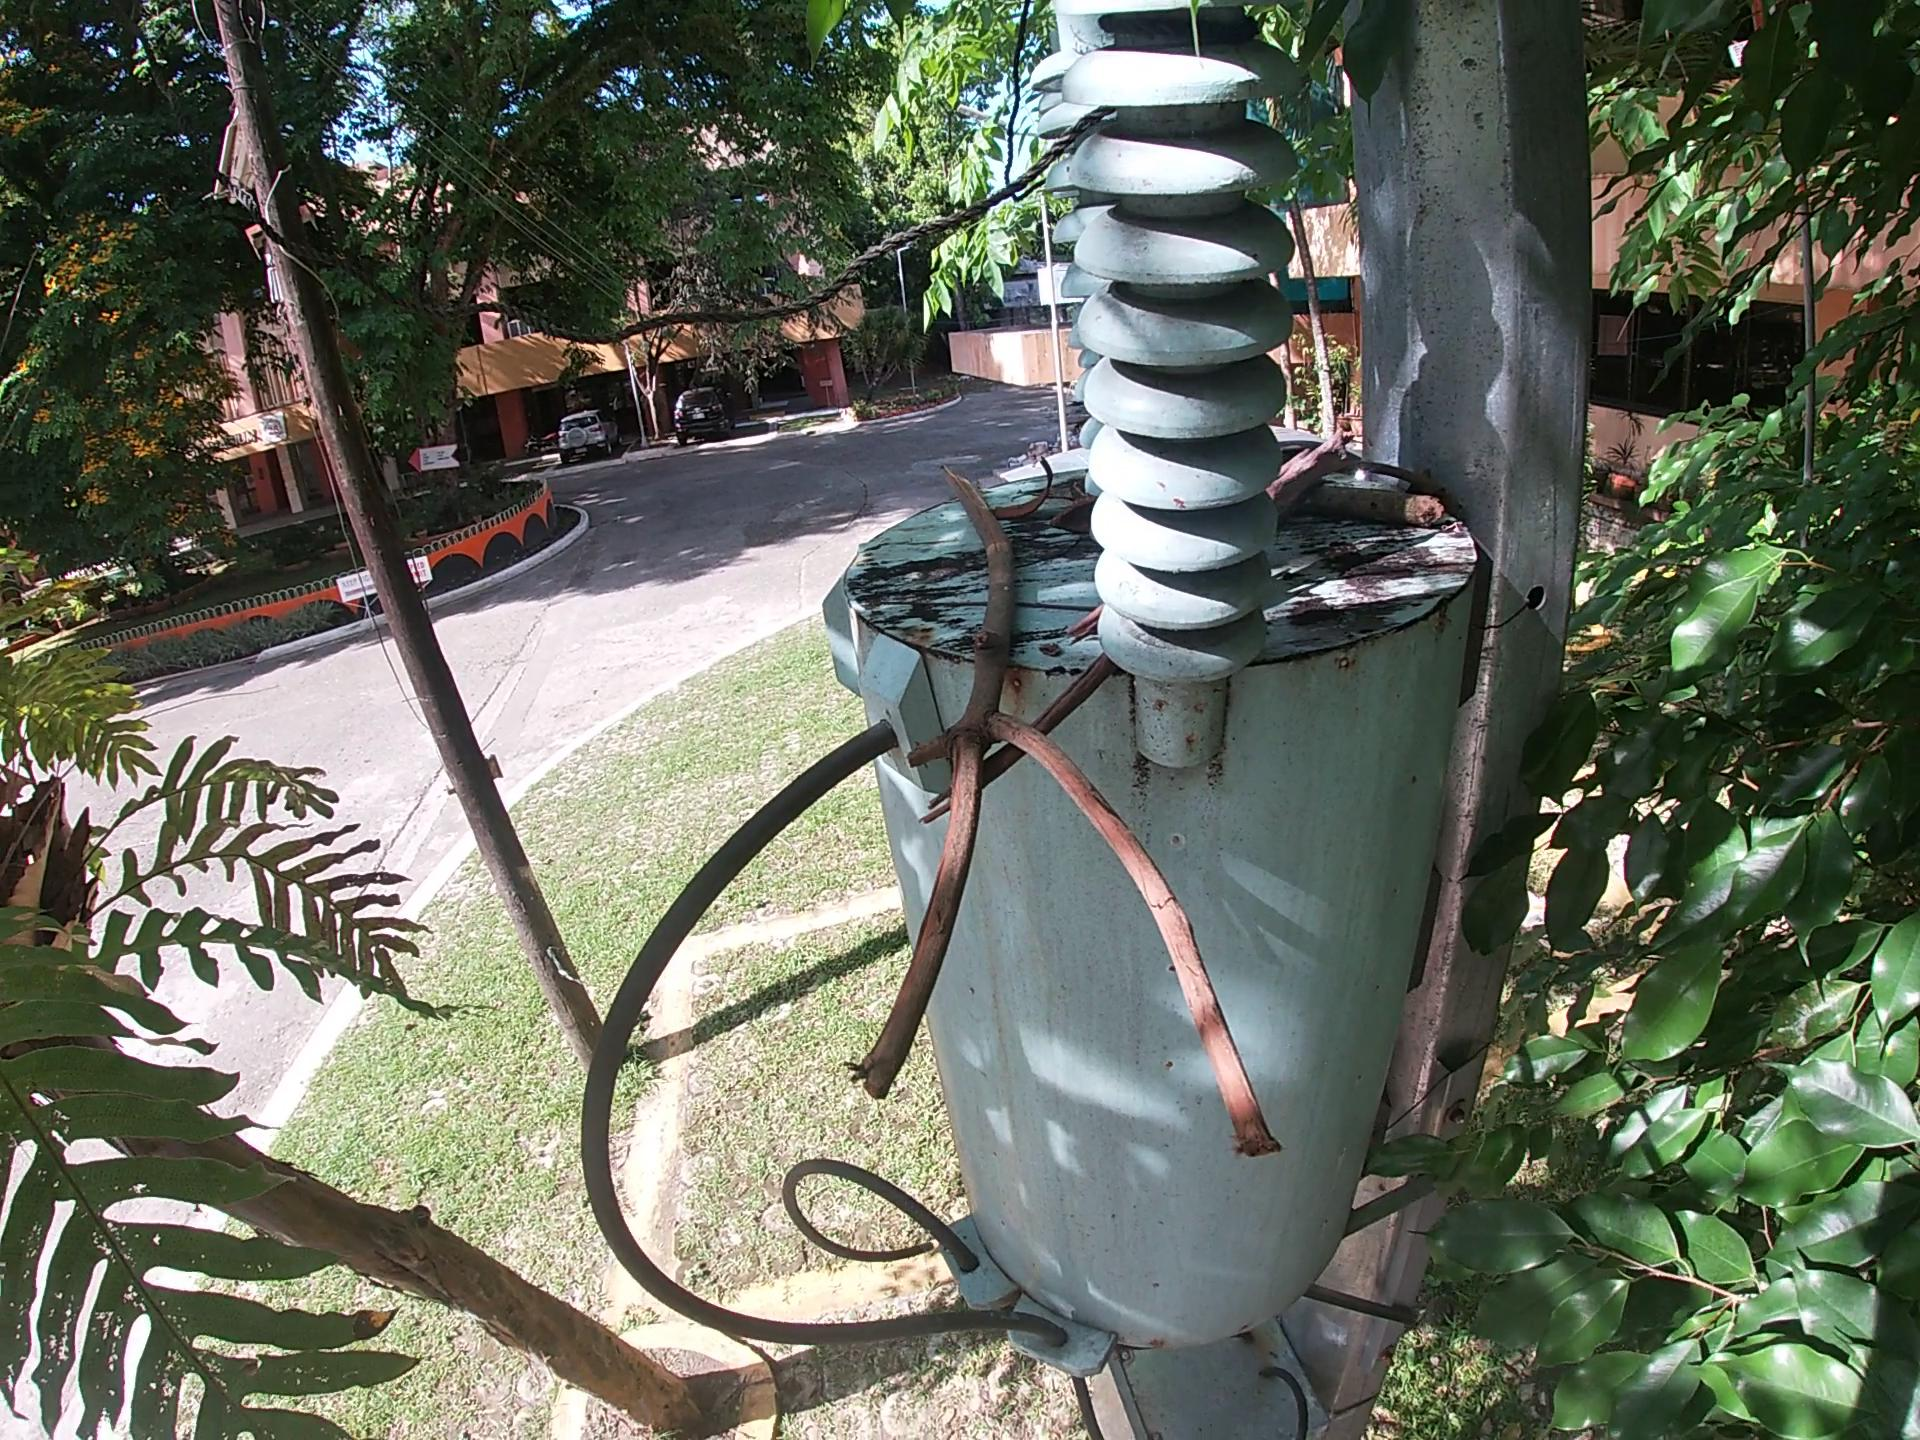mahogany fruit: (995, 455, 1054, 513), (1055, 505, 1098, 537)
tree branch: (897, 464, 1305, 1163), (927, 658, 1110, 830), (1268, 419, 1379, 514), (1299, 492, 1450, 529), (895, 590, 1095, 617), (1317, 461, 1429, 484), (1063, 604, 1114, 644)
